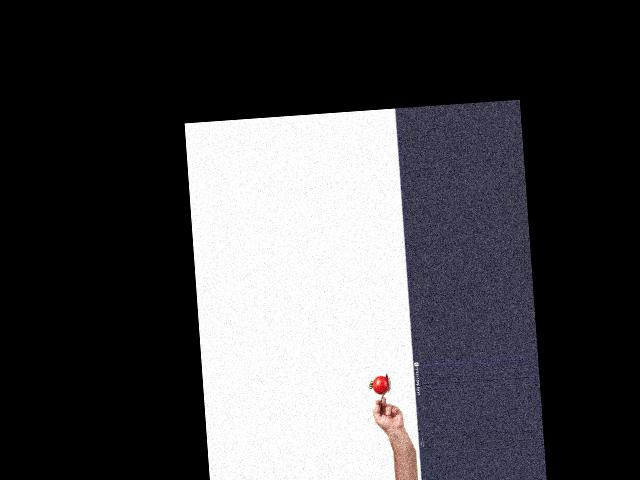tomato: (372, 375, 389, 395)
